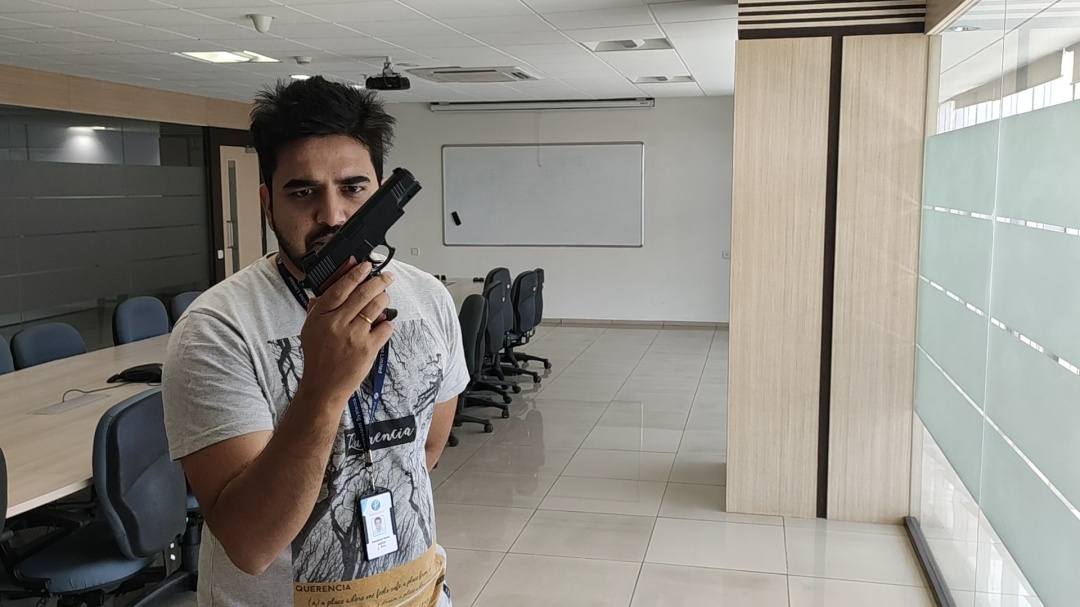gun: (299, 167, 422, 273)
